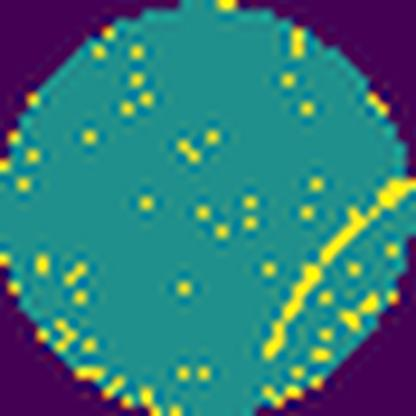Scratch: (259, 172, 416, 364)
